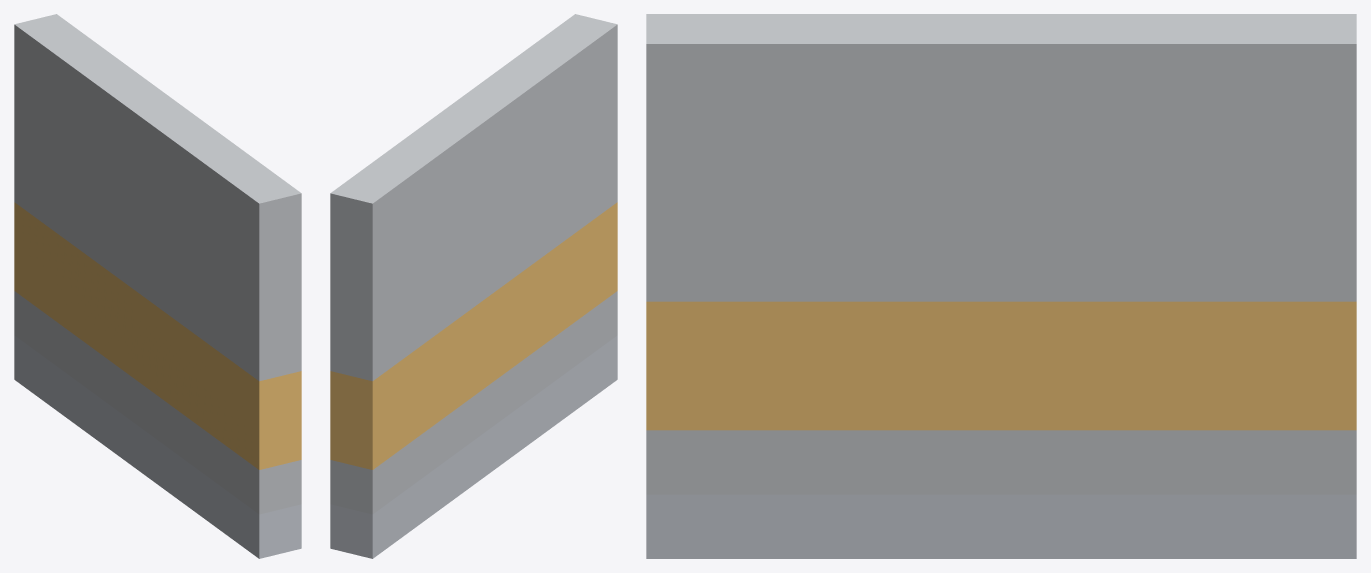
Rendered from wall..gltf.
The picture shows the model from 3 angles, left to right: view 1: azimuth 30°, elevation 25°; view 2: azimuth 150°, elevation 25°; view 3: azimuth 270°, elevation 25°; orthographic projection. The views are drawn at different scales.
Parts seen in each view (by area): view 1: corridor_wall; view 2: corridor_wall; view 3: corridor_wall.
Part boxes in pixels (x1,y1,x2,y2): corridor_wall: (14, 14, 301, 558); corridor_wall: (330, 14, 617, 558); corridor_wall: (646, 14, 1356, 558).
Size of the model in its own units: 0.1 by 0.8 by 1.
